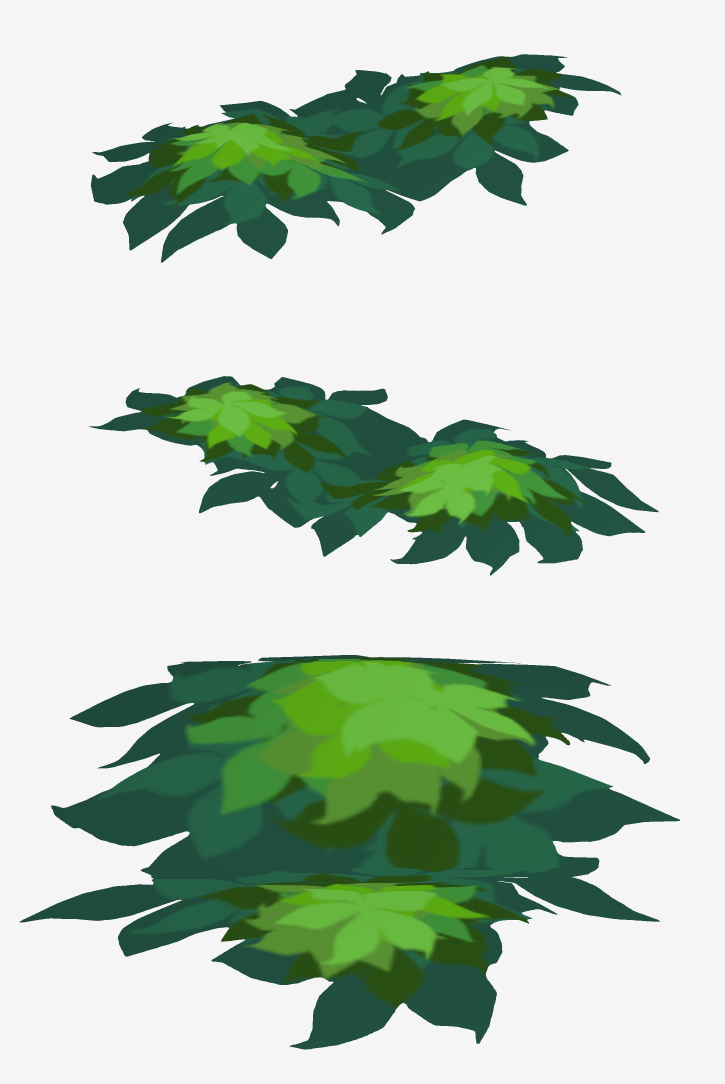
File: tree_plants_001.fbx
3 renders of one model, top to bottom at view 1: azimuth 30°, elevation 25°; view 2: azimuth 150°, elevation 25°; view 3: azimuth 270°, elevation 25°, orthographic. The views are drawn at different scales.
Parts seen in each view (by area): view 1: tree_plants_001; view 2: tree_plants_001; view 3: tree_plants_001.
Boxes of the visible parts, x1,y1,x2,y2 form: tree_plants_001: (90,54,621,262); tree_plants_001: (89,376,658,575); tree_plants_001: (19,655,679,1049).
Size of the model in its own units: 8.15 by 0.9531 by 5.09.
